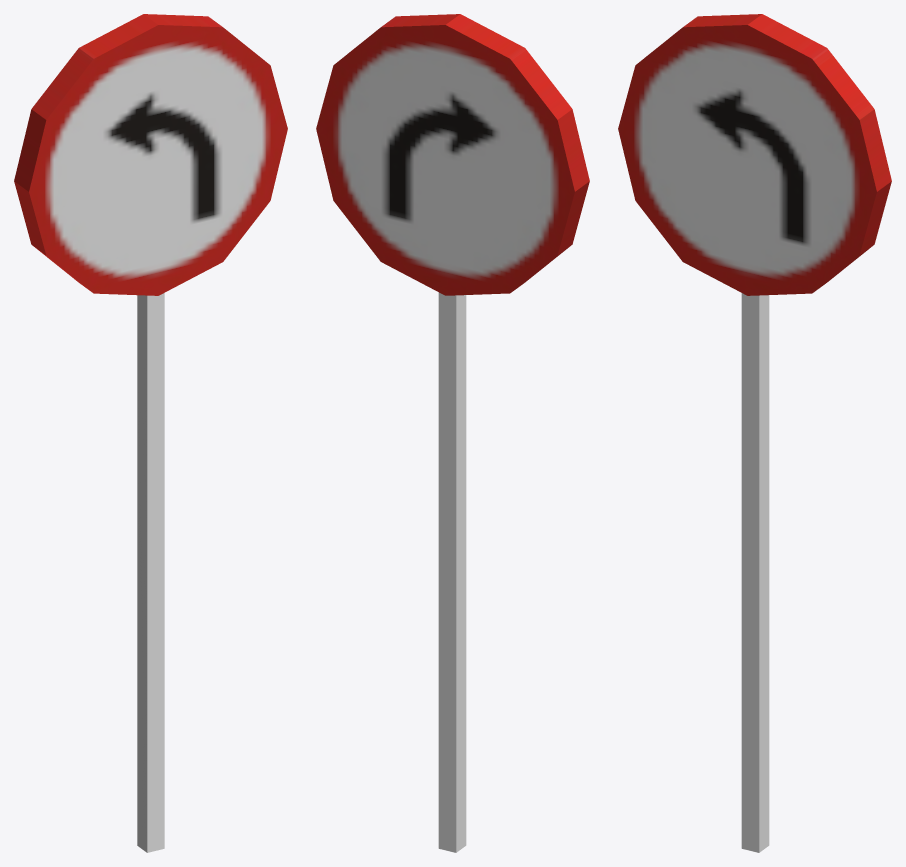
The model's file is PlacaCurva-D.fbx.
The picture shows the model from 3 angles, left to right: view 1: azimuth 30°, elevation 25°; view 2: azimuth 150°, elevation 25°; view 3: azimuth 330°, elevation 25°; orthographic projection.
Visible parts, largest first — view 1: Placa-Curva-D-4; view 2: Placa-Curva-D-4; view 3: Placa-Curva-D-4.
Part boxes in pixels (x1,y1,x2,y2): Placa-Curva-D-4: [14, 14, 287, 852]; Placa-Curva-D-4: [316, 14, 589, 852]; Placa-Curva-D-4: [618, 14, 891, 852].
Size of the model in its own units: 0.7576 by 2.31 by 0.0758.
